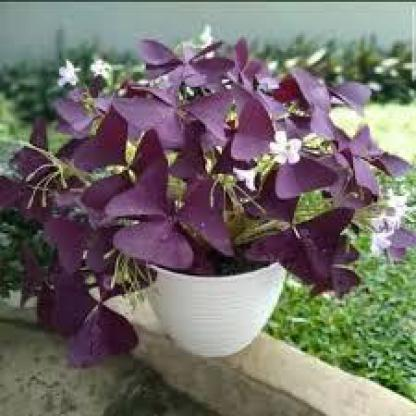Kupu-Kupu: (138, 34, 258, 153), (40, 212, 132, 363), (299, 71, 391, 190), (121, 169, 230, 267), (265, 217, 360, 286)
